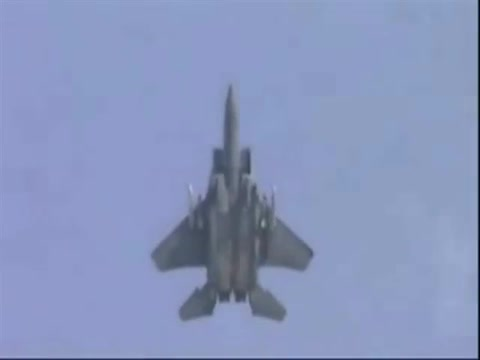aeroplane: (151, 85, 315, 322)
